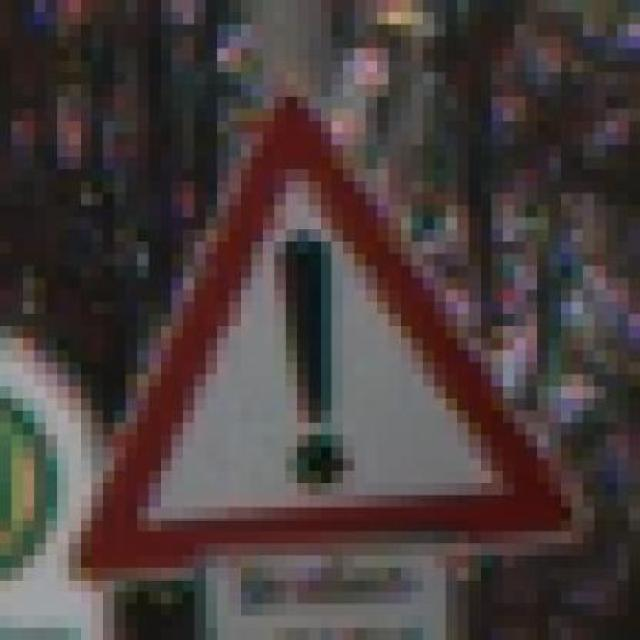Attention Please-: (68, 84, 594, 604)
